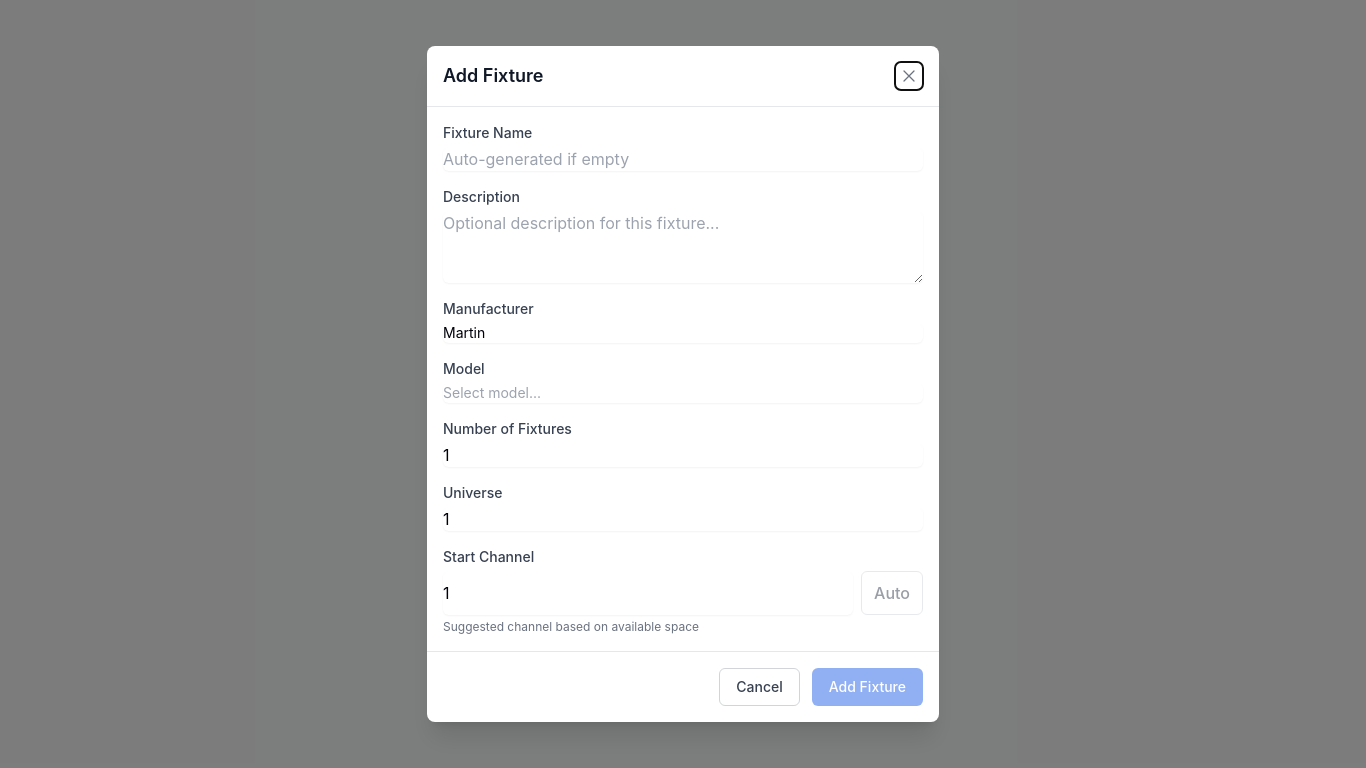
it: AddFixtureModal fixture sources › lists same-model definitions by stored precedence with source badges
Click the field labelled "Model" at (683, 393), box [443, 383, 923, 403]
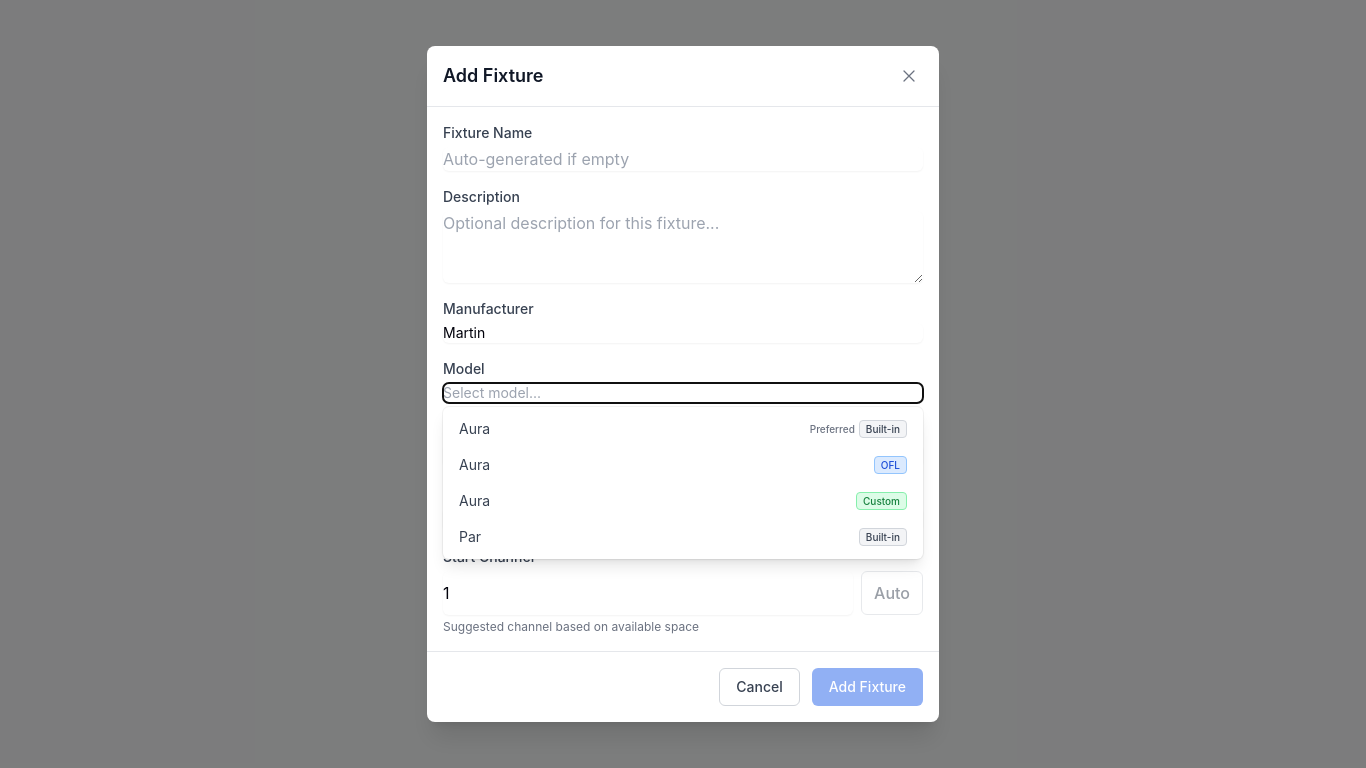
Check: the buttons read "AuraPreferredSource: Built-in", "AuraSource: OFL", "AuraSource: Custom", "ParSource: Built-in", in this order, box [443, 411, 923, 447]; [443, 447, 923, 483]; [443, 483, 923, 519]; [443, 519, 923, 555]
